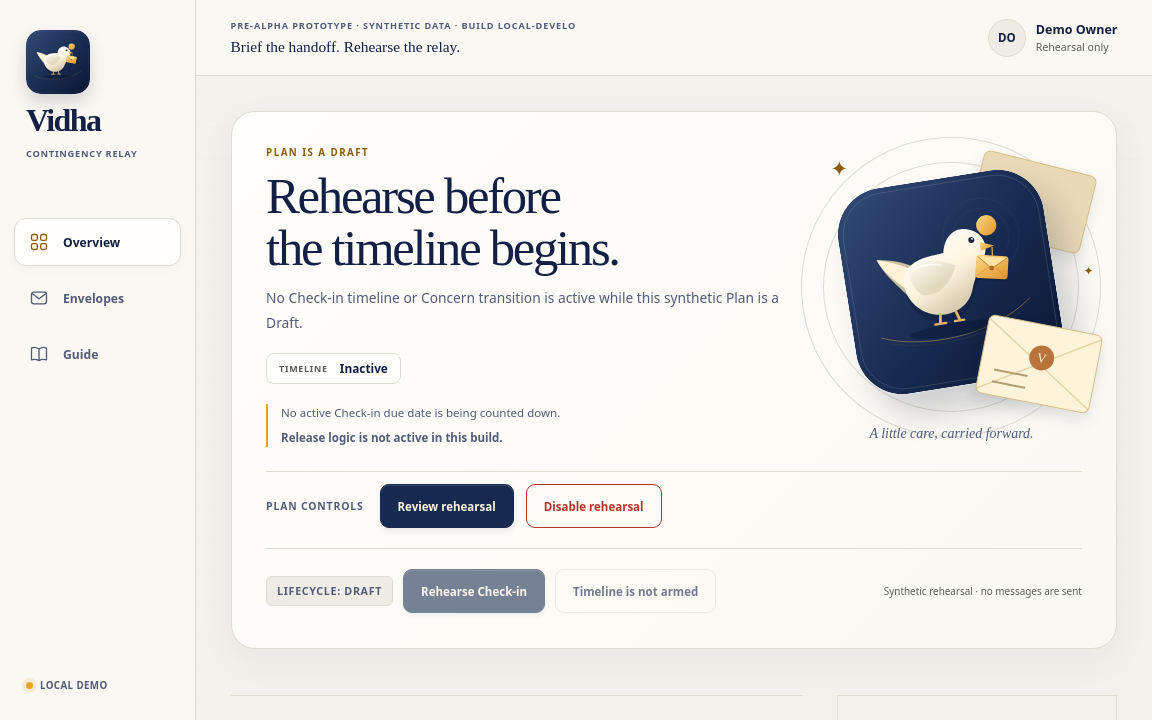
Vidha synthetic foundation app › explains the full rehearsal and consequence boundaries in the Owner guide
Click the button "Guide". click: (98, 354)
box: x1=14 y1=330 x2=181 y2=378
(page scrolled)
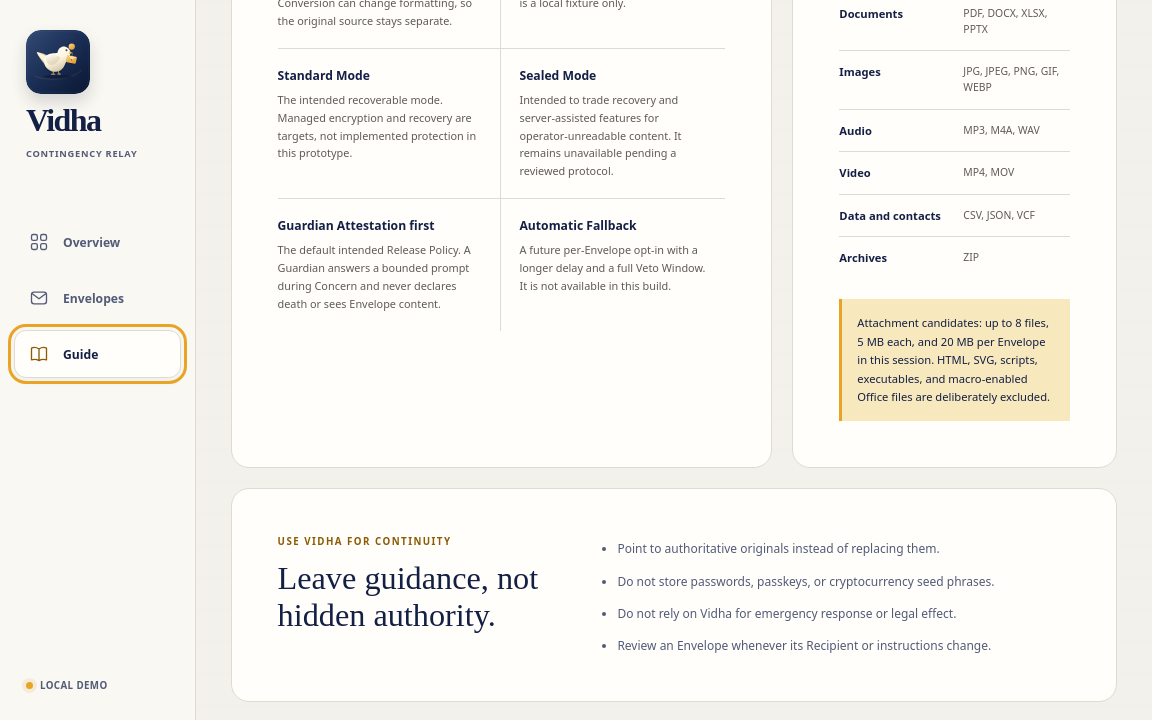
expect the text "Guardian Attestation first" is shown: met, box x1=278 y1=217 x2=434 y2=234
expect the text "HTML, SVG, scripts, executables" is shown: met, box x1=857 y1=315 x2=1050 y2=404
